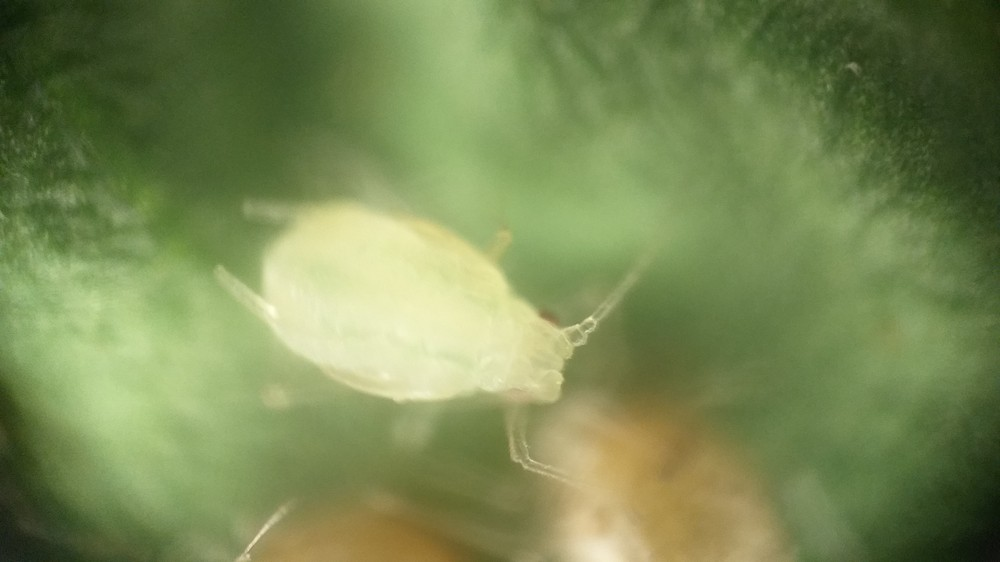Pulgon: (172, 133, 711, 504)
